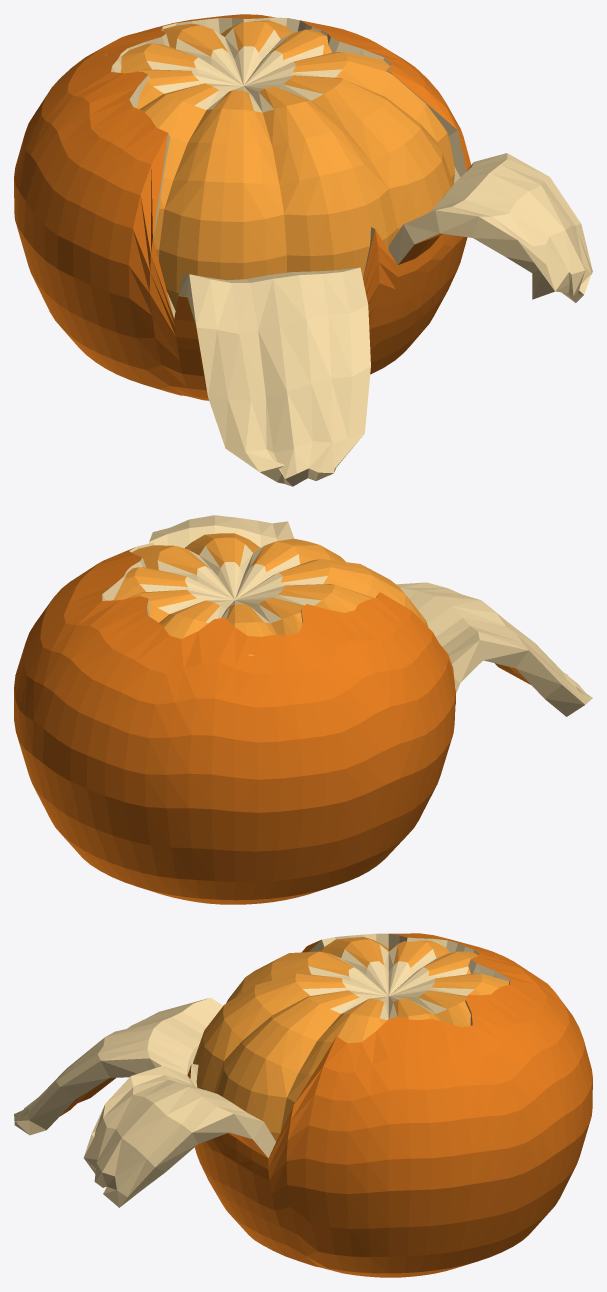
Rendered from mandarin_peeled.glb.
3 views of the same model, one above another, from view 1: azimuth 30°, elevation 25°; view 2: azimuth 150°, elevation 25°; view 3: azimuth 270°, elevation 25° (orthographic). The views are drawn at different scales.
Visible parts, largest first — view 1: Ten joined mandarin segments; view 2: Ten joined mandarin segments; view 3: Ten joined mandarin segments.
Part boxes in pixels (bbox=[...]): Ten joined mandarin segments: bbox=[14, 14, 592, 486]; Ten joined mandarin segments: bbox=[14, 515, 592, 904]; Ten joined mandarin segments: bbox=[14, 933, 592, 1277].
Bounding box in the file's own units: 0.0731 × 0.0525 × 0.1018.
